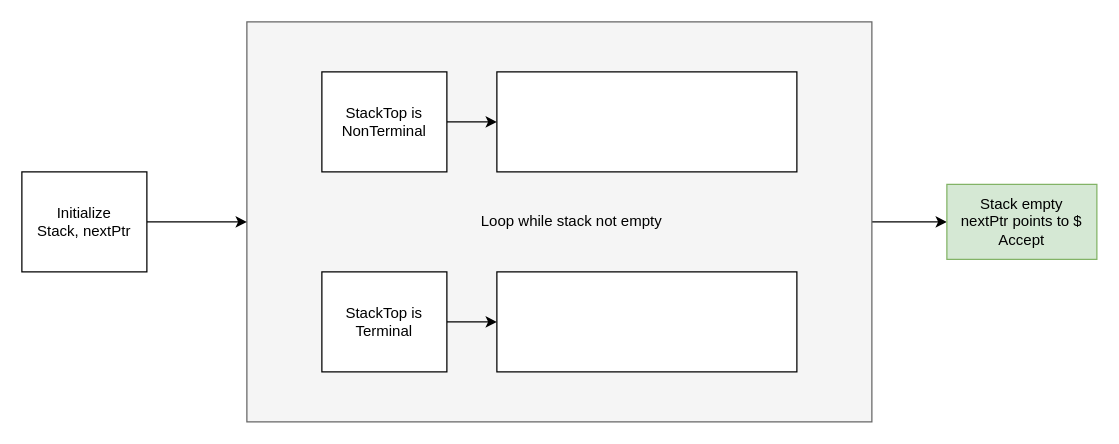
The diagram is 1119 pixels wide and 444 high, and some of its shapes have lost their labels. The box of each missing label's shape, as (x1, y1, x2, y2) in pixels:
Try matching stackTop(Terminal) with next tokens Update stack and nextPtr: (496, 271, 797, 372)
Using parseTable Find which RHS to use Replace old NonTerminal with new RHS: (496, 71, 797, 172)
